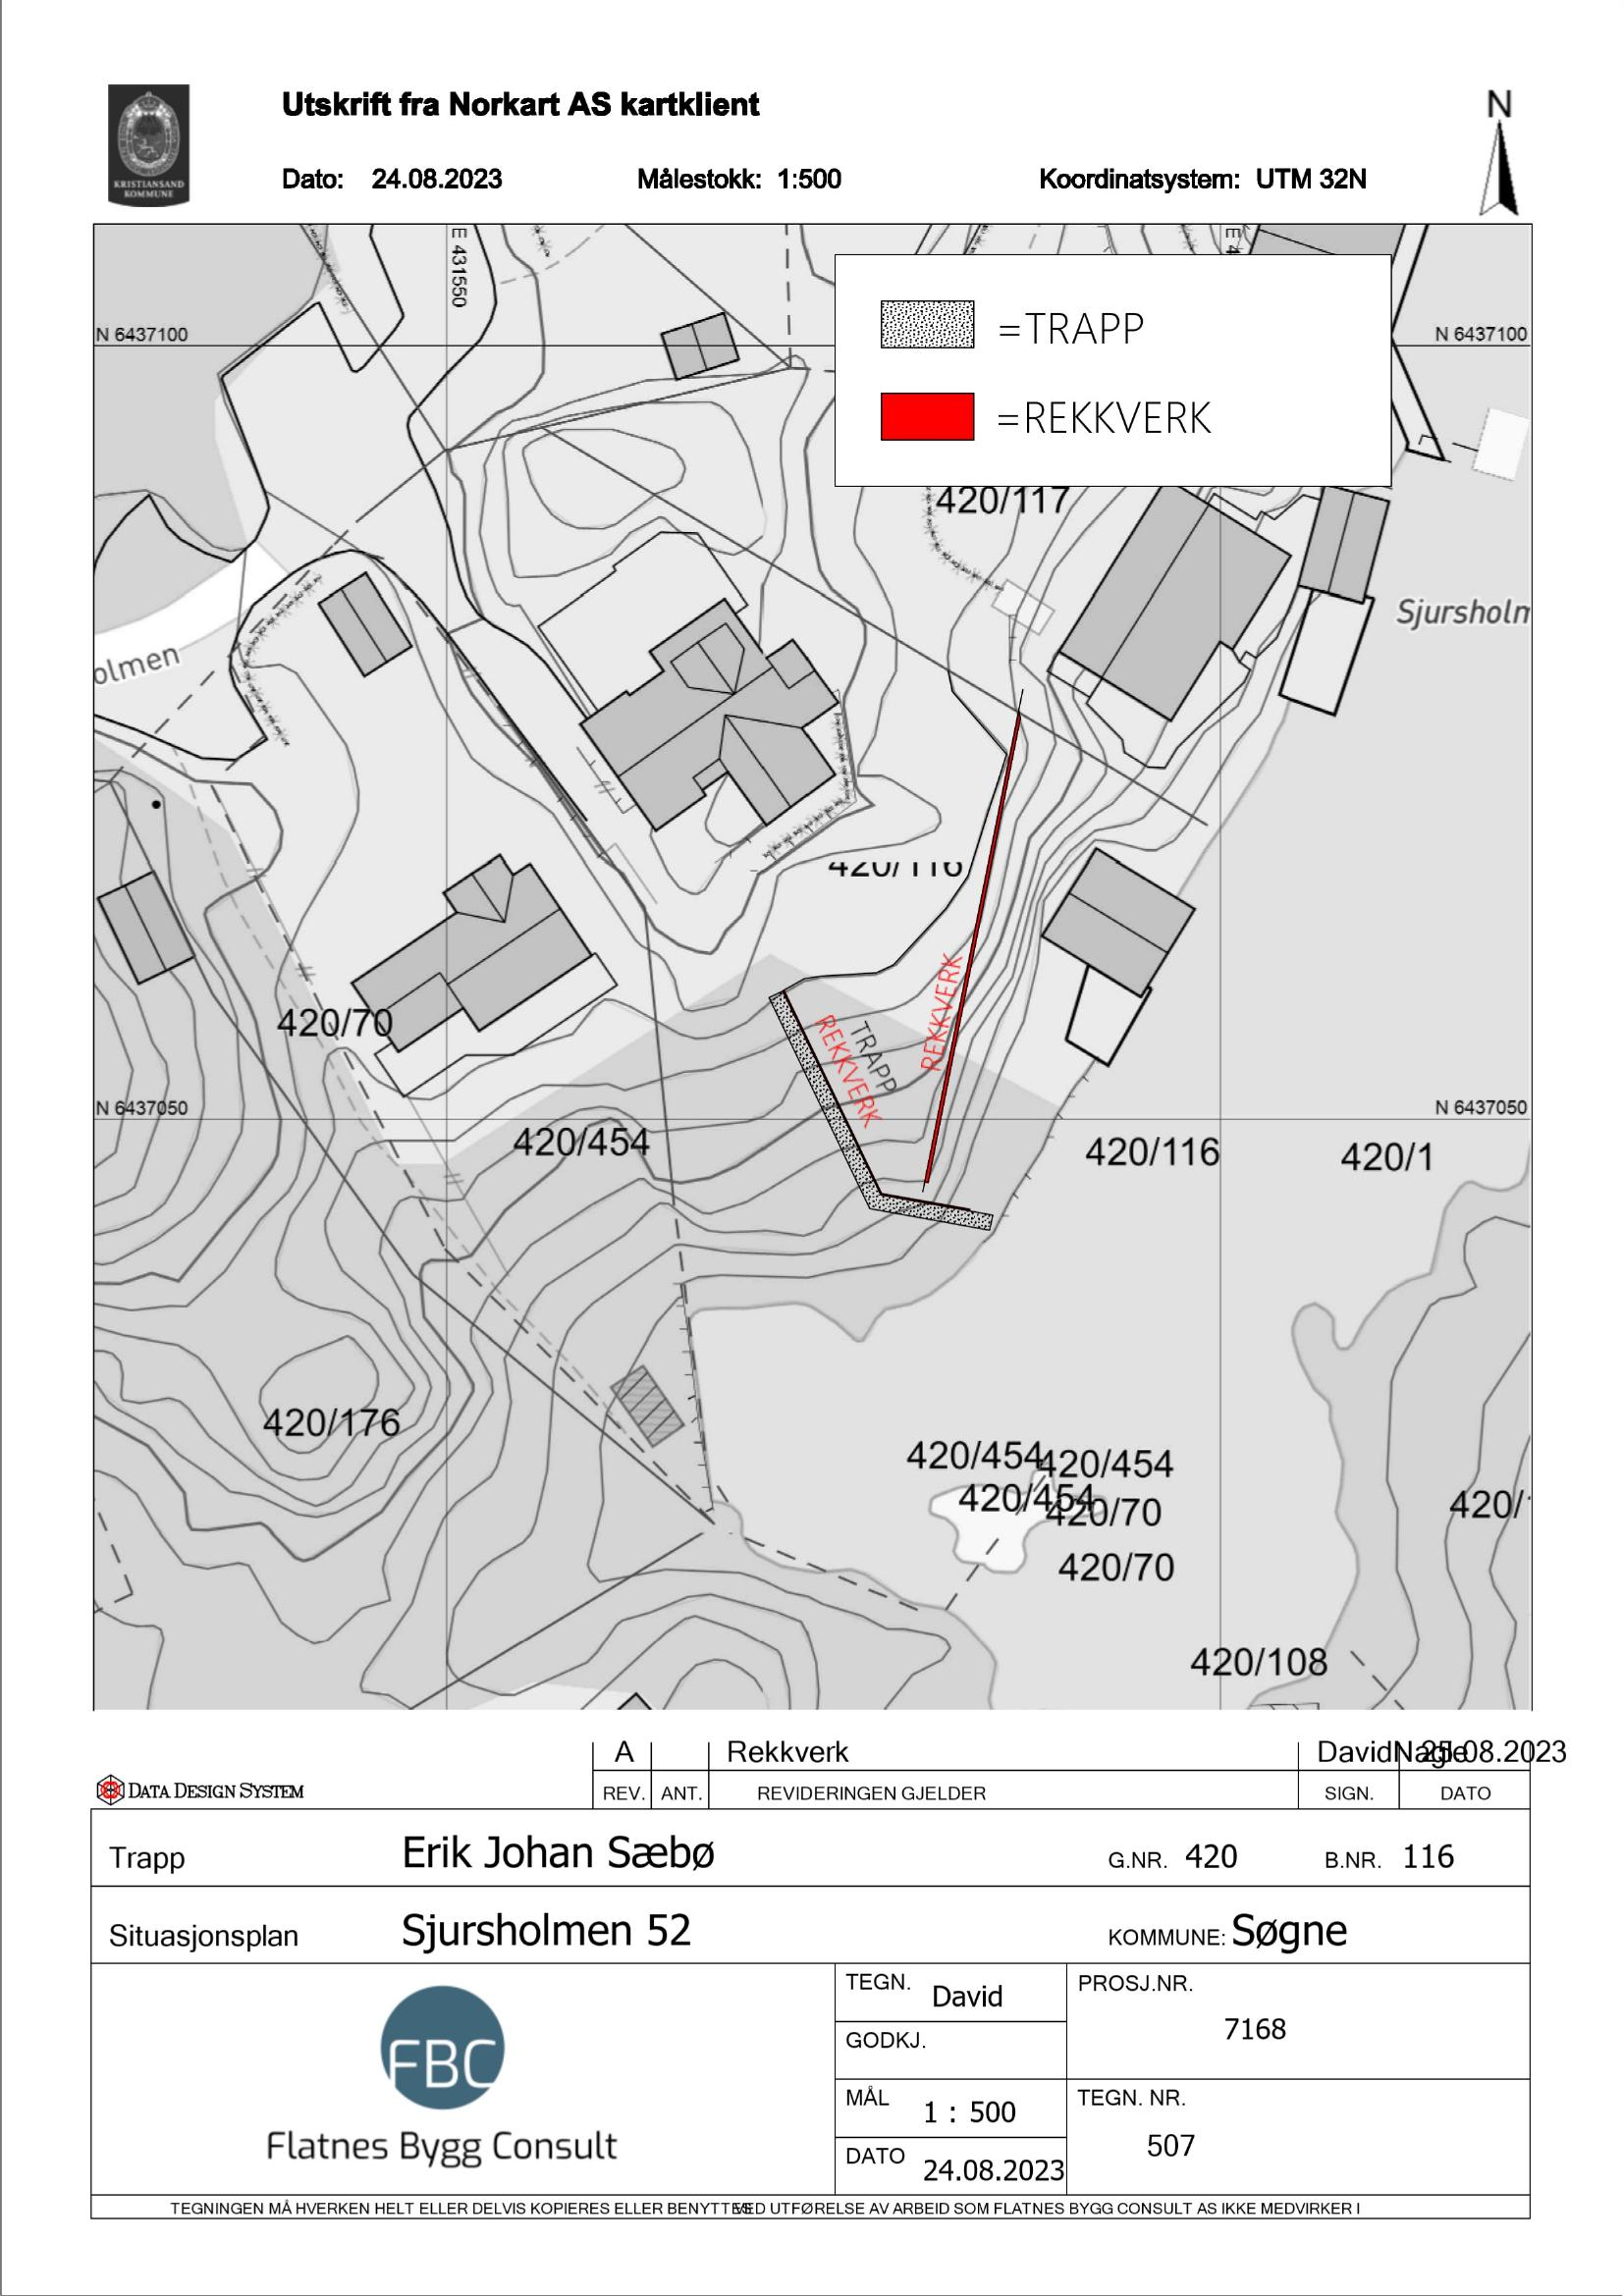situasjonskart: (88, 223, 1527, 1709)
